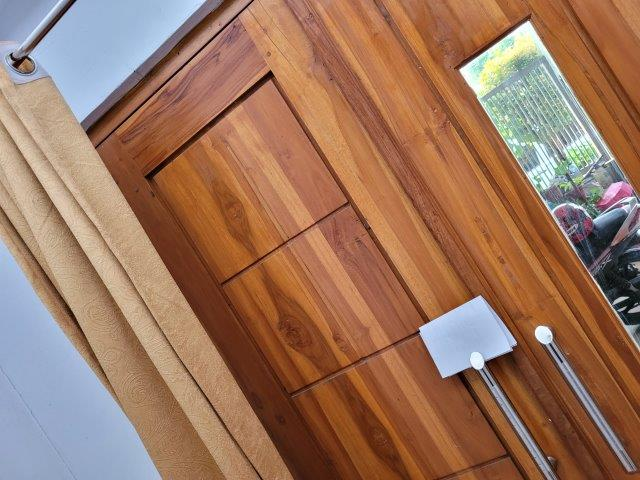kertas: (416, 296, 517, 375)
